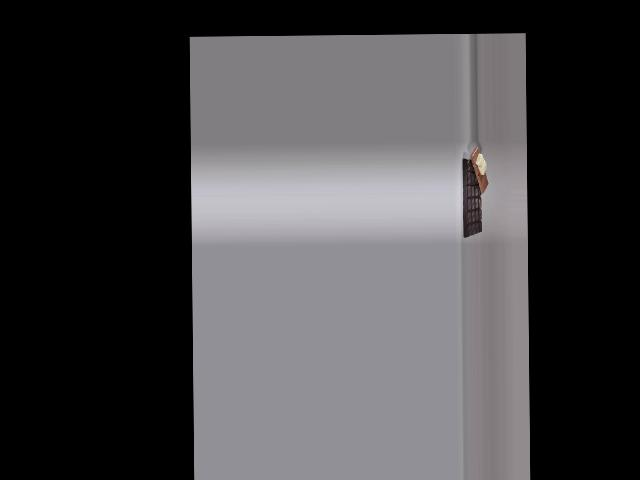chocolate: (459, 153, 485, 238)
